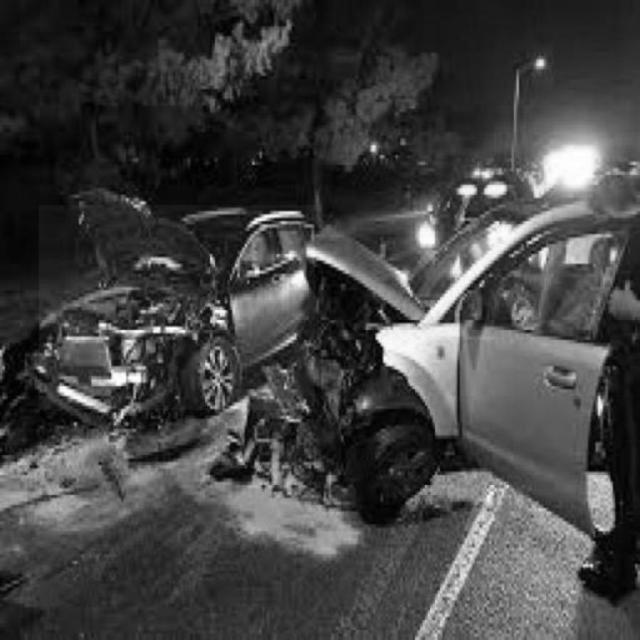vehicle: (341, 183, 639, 533), (39, 205, 315, 410)
